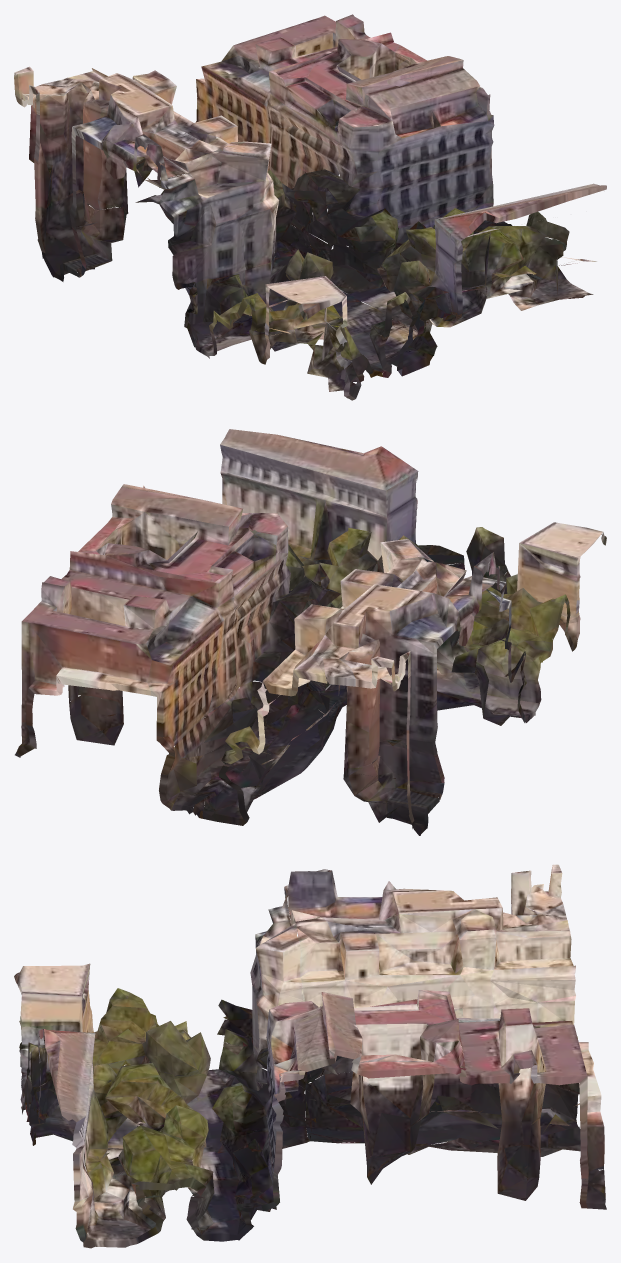
3 views of the same model, one above another, from view 1: azimuth 30°, elevation 25°; view 2: azimuth 150°, elevation 25°; view 3: azimuth 270°, elevation 25° (orthographic). The views are drawn at different scales.
Visible parts, largest first — view 1: Mesh_0; view 2: Mesh_0; view 3: Mesh_0.
Part boxes in pixels (box(x1,y1,x2,y2)): Mesh_0: box(14, 14, 606, 400); Mesh_0: box(15, 429, 606, 835); Mesh_0: box(14, 864, 606, 1248).
Size of the model in its own units: 66.6 by 32.61 by 82.72.
Materials: 1 (1 with a texture image).
